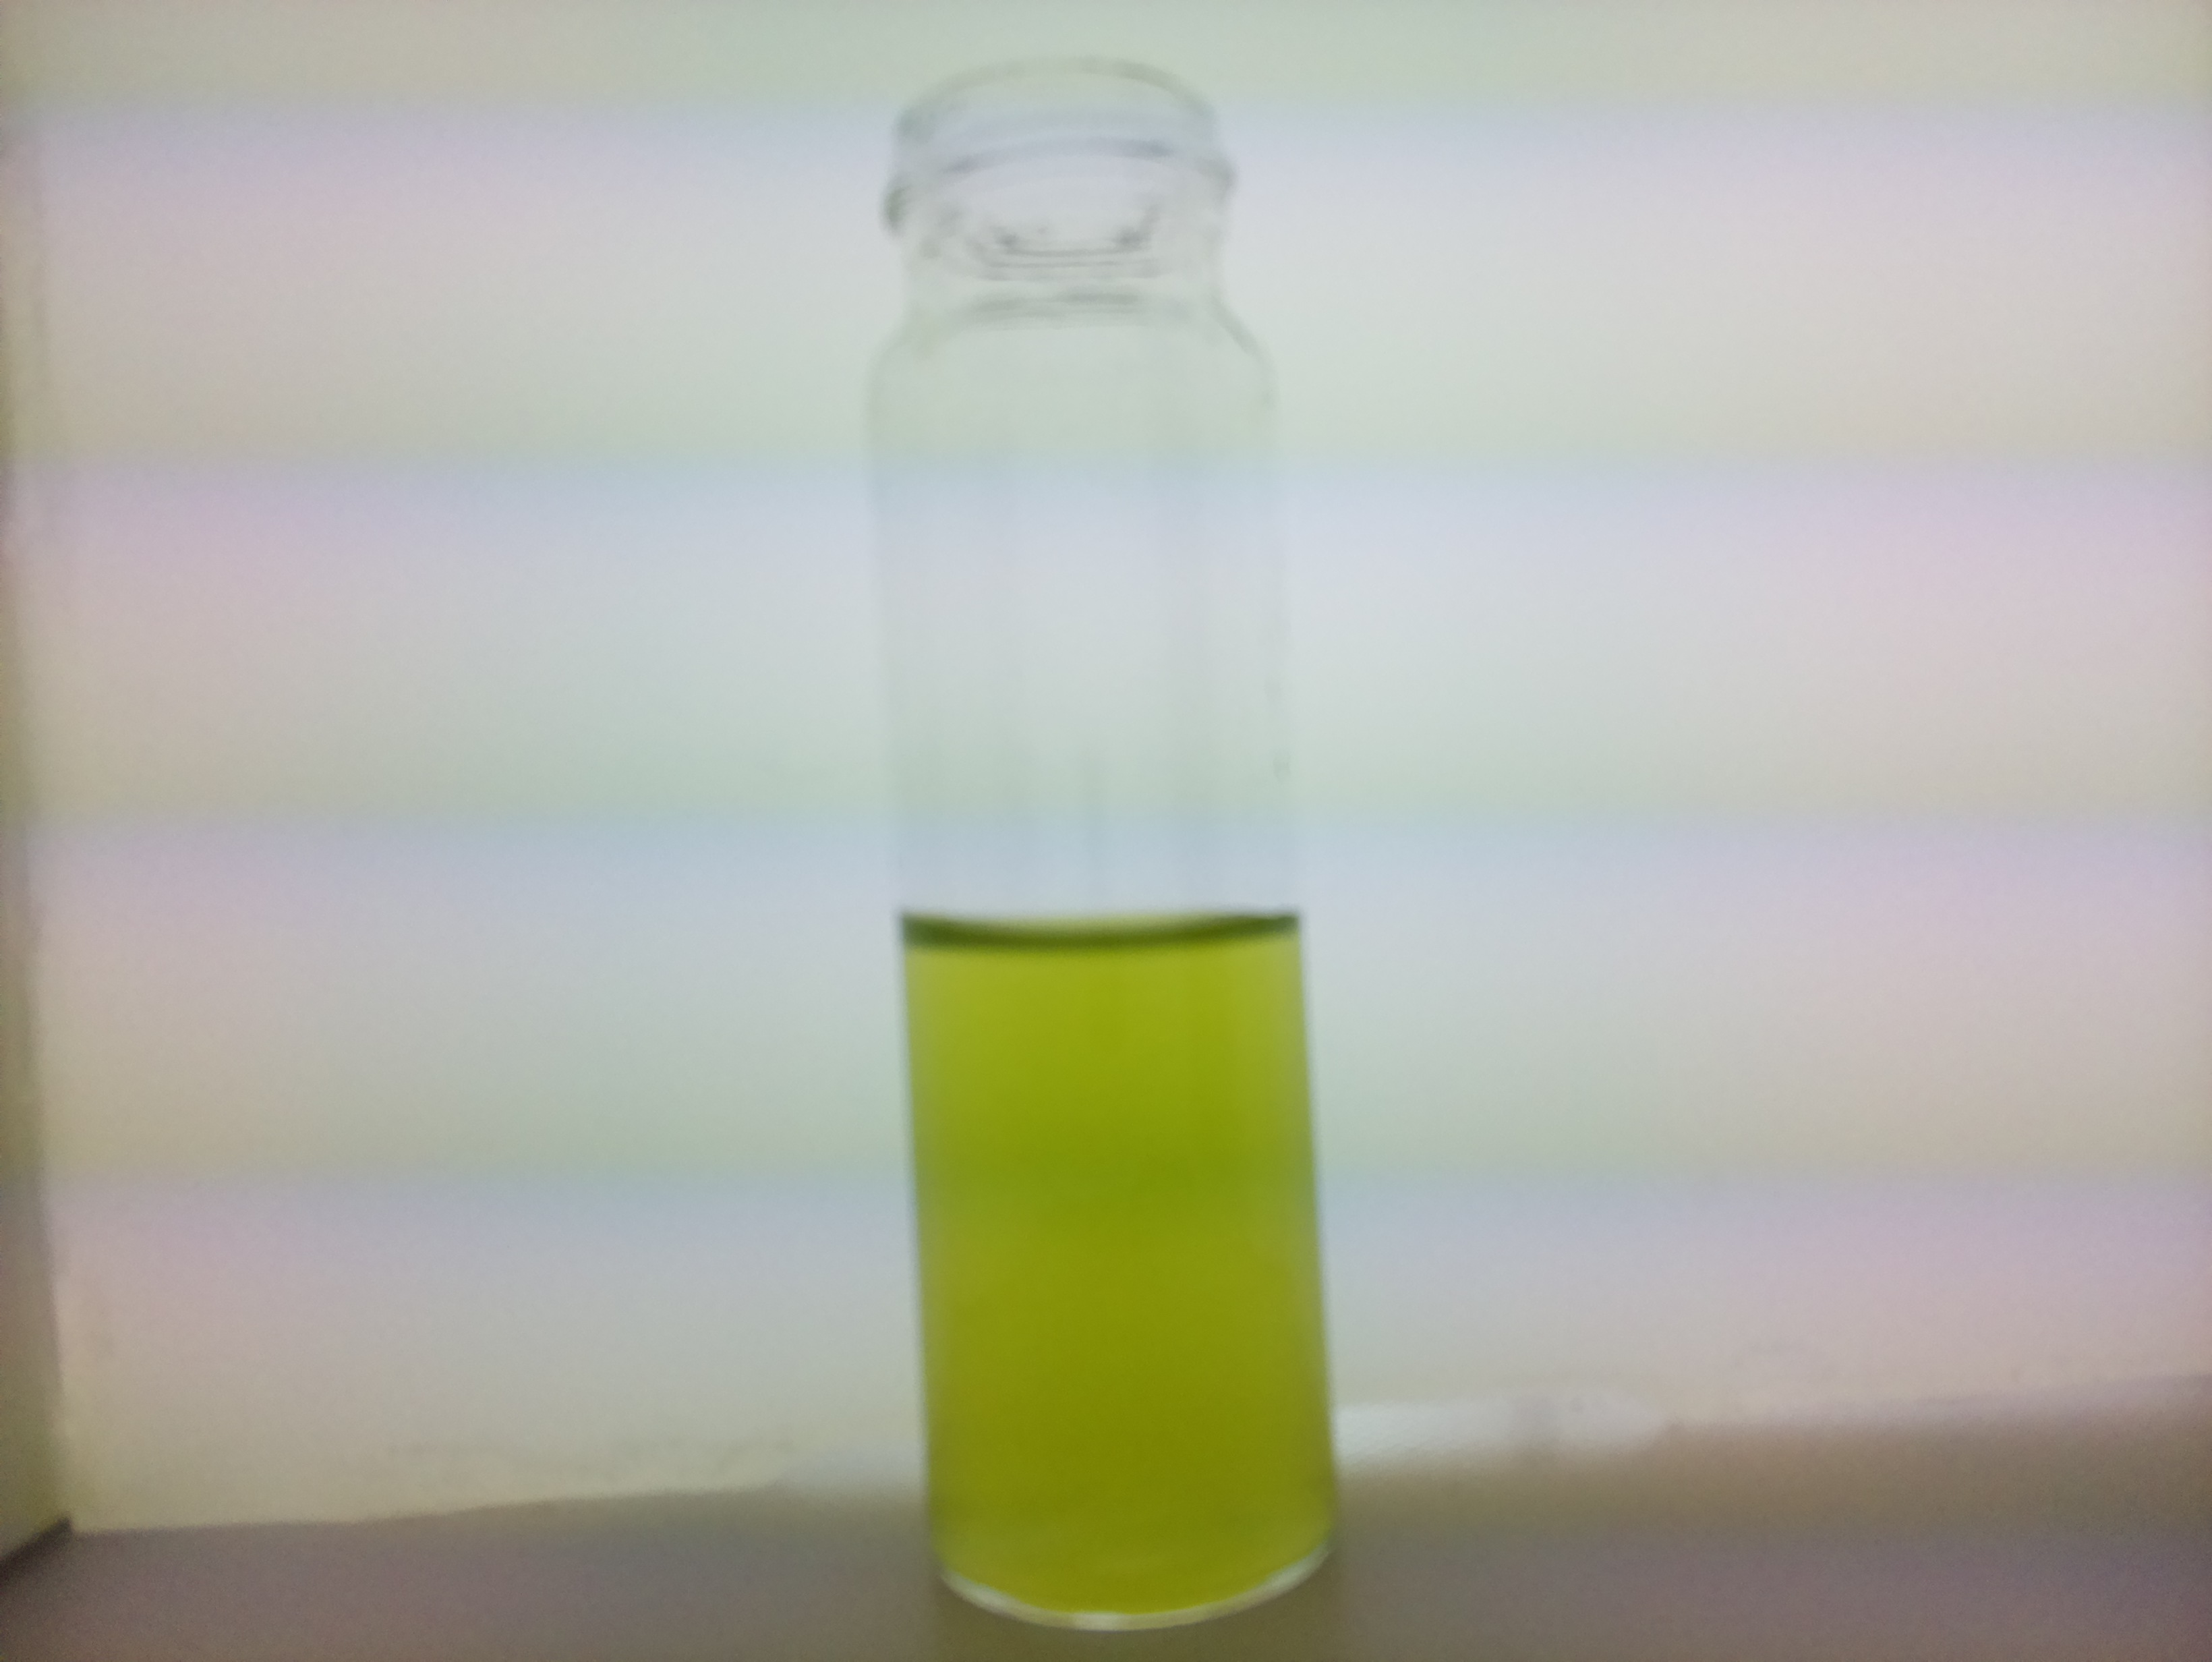colored_area: (908, 931, 1330, 1606)
